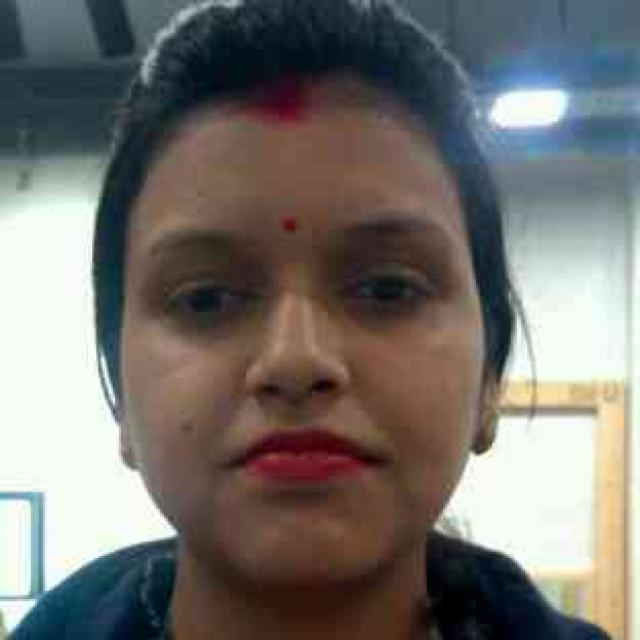Puffy Eyes - v3 Dark Circle: (164, 299, 258, 339), (345, 302, 434, 336)
